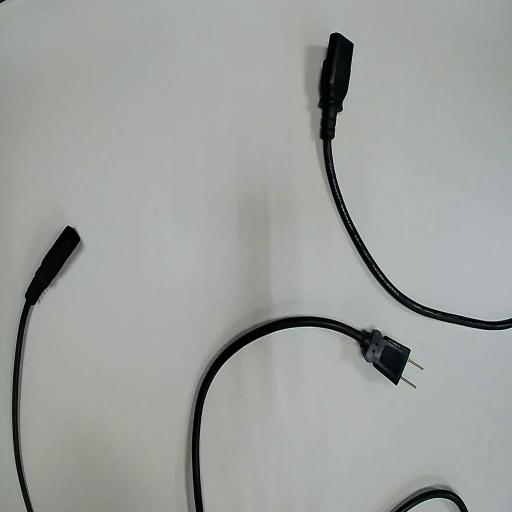wire: (319, 34, 511, 328), (192, 317, 408, 511), (13, 227, 79, 511)
